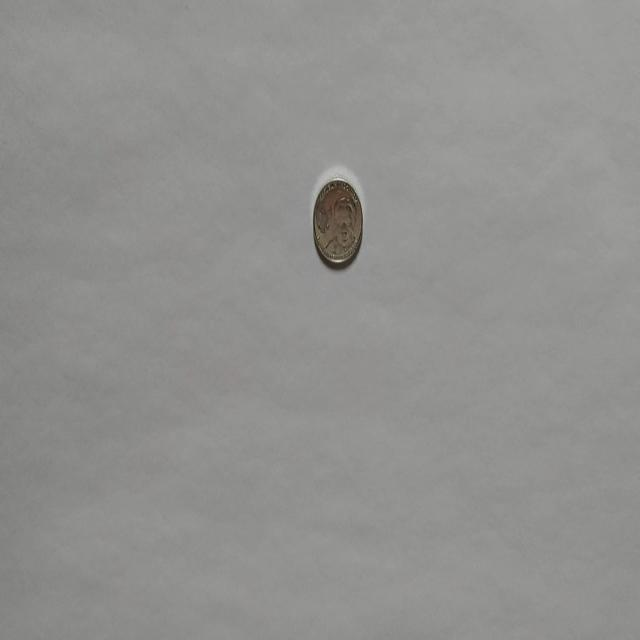seratus rupiah: (312, 176, 363, 268)
